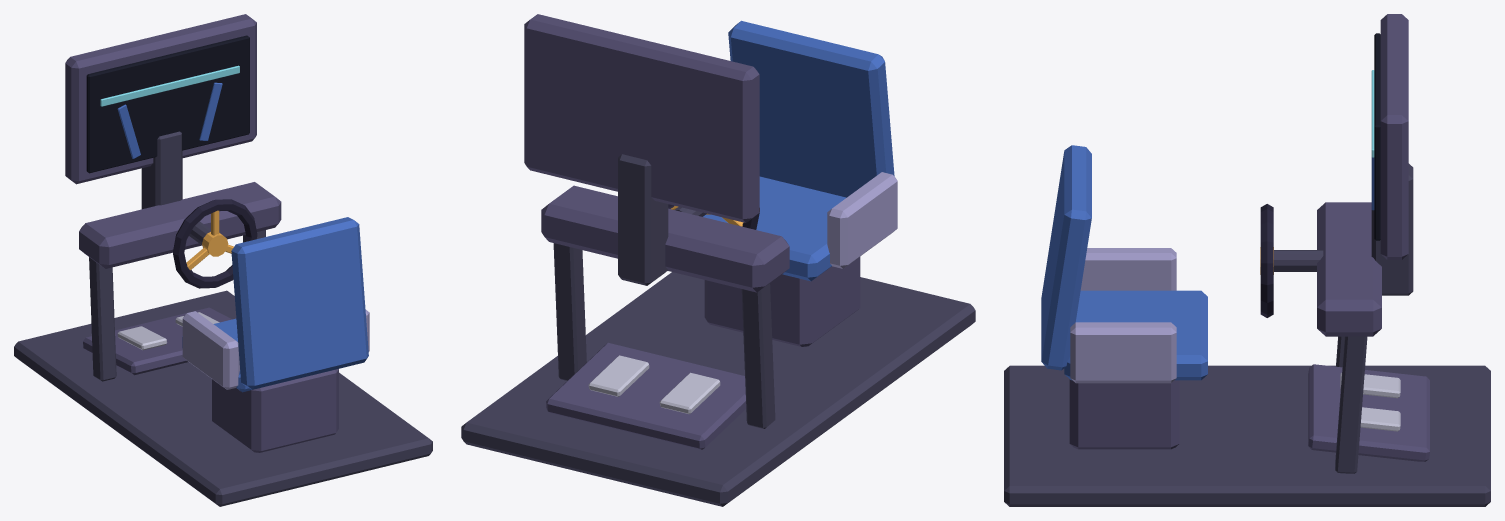
Rendered from 03_Vector_Racing_Seat.glb.
3 renders of one model, left to right at view 1: azimuth 30°, elevation 25°; view 2: azimuth 150°, elevation 25°; view 3: azimuth 270°, elevation 25°, orthographic. The views are drawn at different scales.
Visible parts, largest first — view 1: 03_Vector_Racing_Seat__Body; view 2: 03_Vector_Racing_Seat__Body; view 3: 03_Vector_Racing_Seat__Body.
Part boxes in pixels (x1,y1,x2,y2): 03_Vector_Racing_Seat__Body: (14, 14, 432, 506); 03_Vector_Racing_Seat__Body: (461, 14, 975, 506); 03_Vector_Racing_Seat__Body: (1004, 14, 1490, 506).
Size of the model in its own units: 2.55 by 3.64 by 4.2.
Materials: 1 (1 with a texture image).
